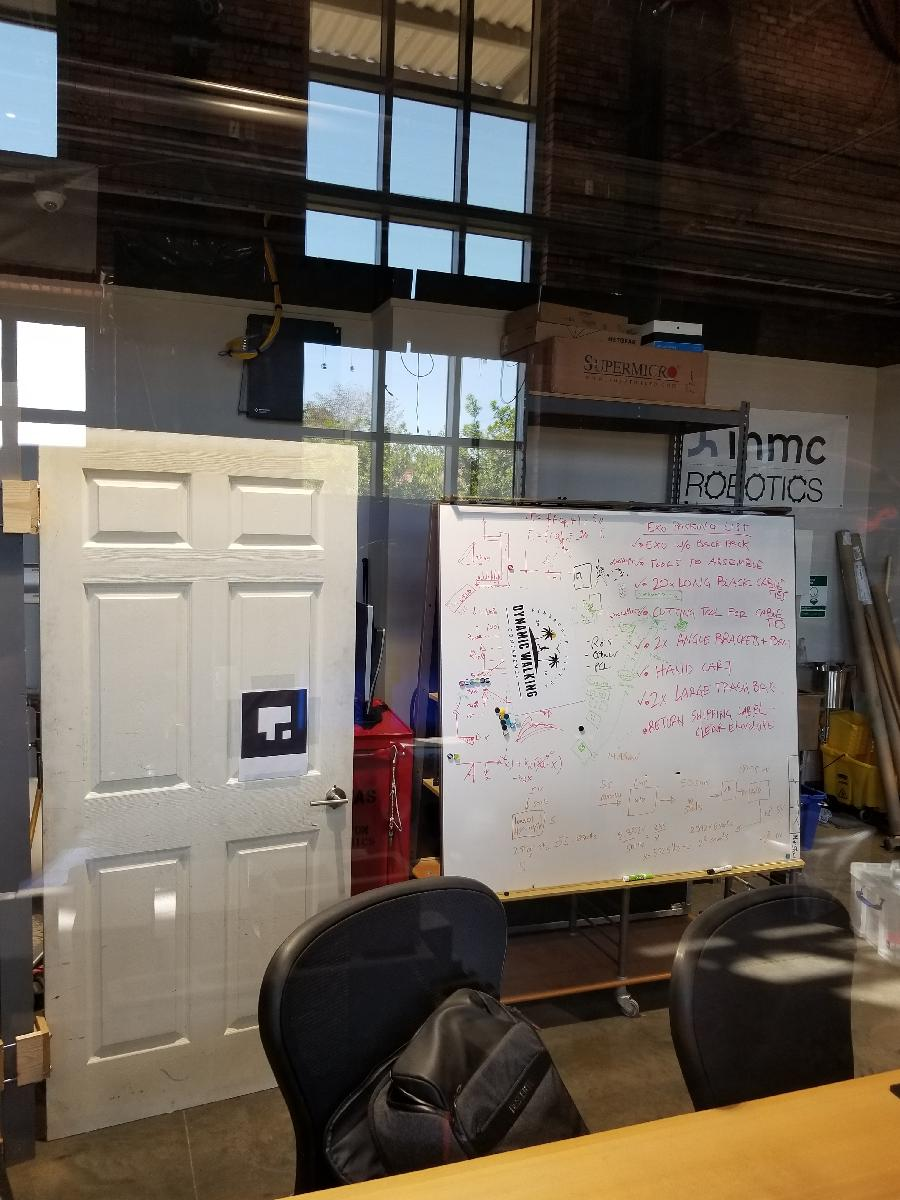door: (31, 423, 368, 1149)
doorHandle: (313, 781, 359, 822)
